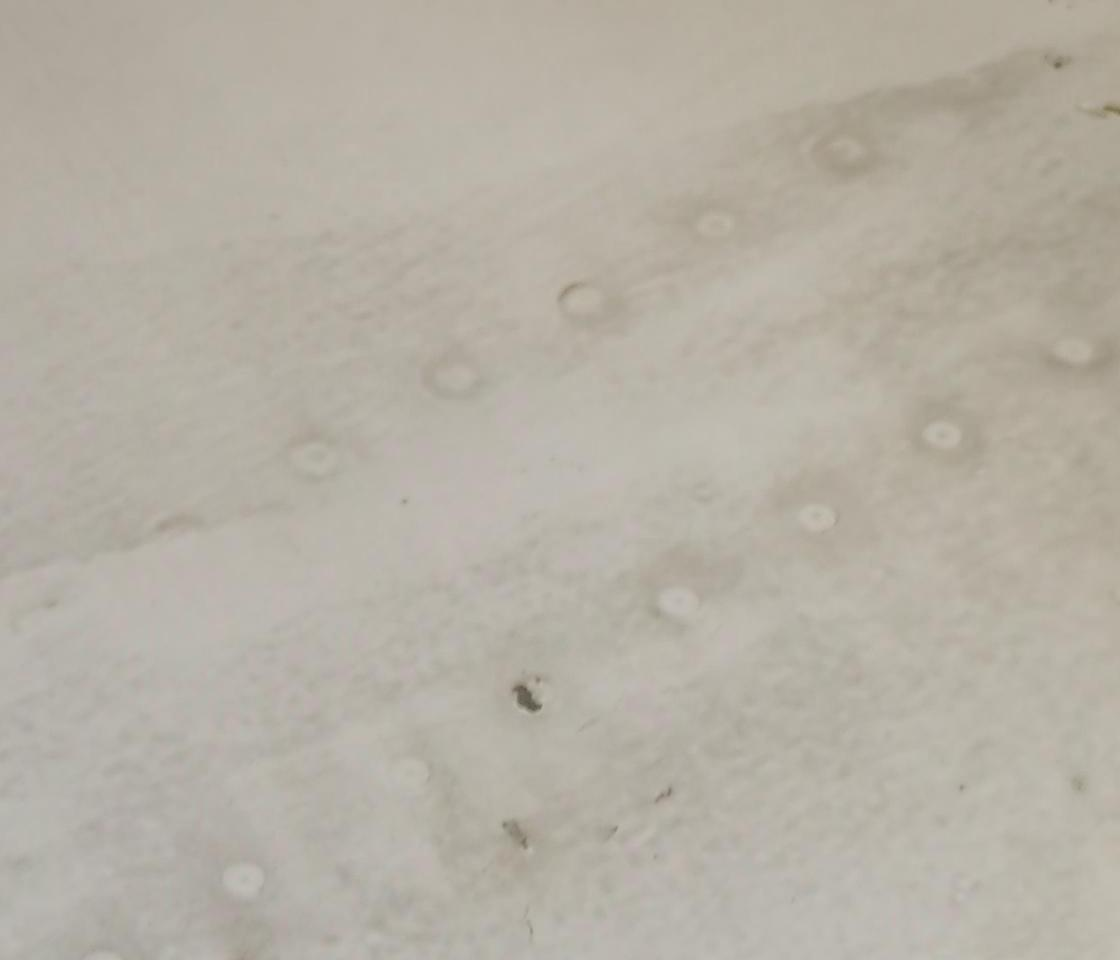scratch: (505, 681, 547, 720)
